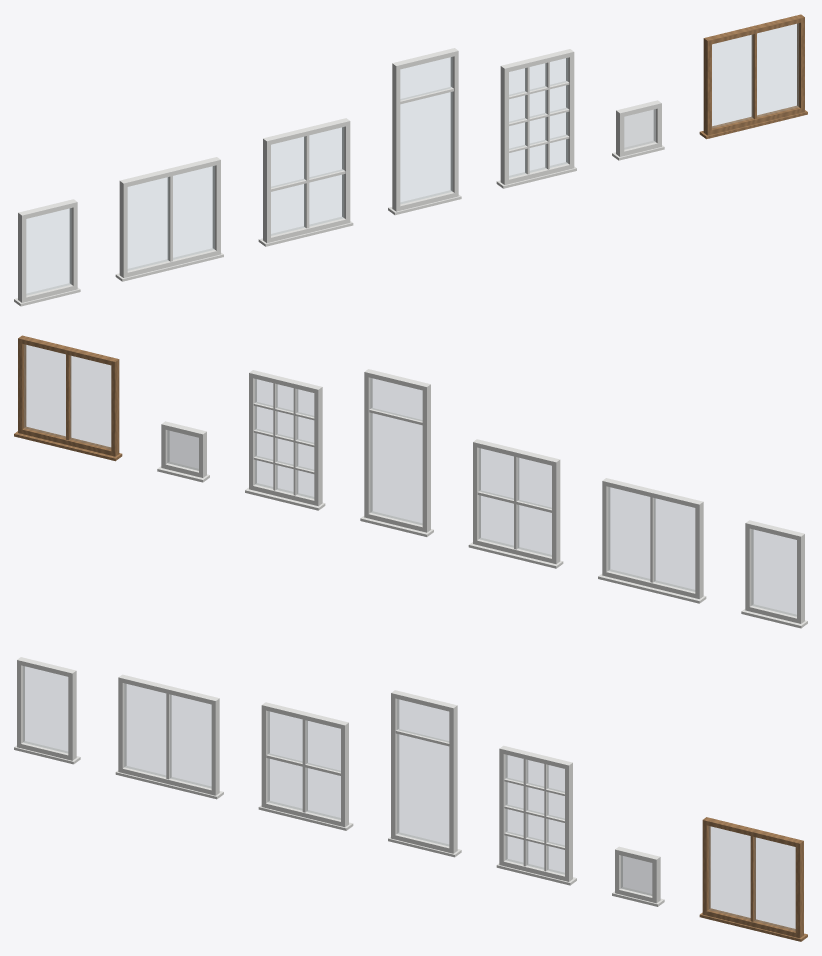
File: mlo_windows_basic.glb
3 renders of one model, top to bottom at view 1: azimuth 30°, elevation 25°; view 2: azimuth 150°, elevation 25°; view 3: azimuth 330°, elevation 25°, orthographic.
Parts seen in each view (by area): view 1: Casement_Double, Casement_Double_Oak, Tall_With_Transom, Cross_Four_Pane, Sash_Six_Over_Six, Casement_Single, Small_Frosted; view 2: Casement_Double, Casement_Double_Oak, Tall_With_Transom, Cross_Four_Pane, Sash_Six_Over_Six, Casement_Single, Small_Frosted; view 3: Casement_Double, Casement_Double_Oak, Tall_With_Transom, Cross_Four_Pane, Sash_Six_Over_Six, Casement_Single, Small_Frosted.
Part boxes in pixels (x1,y1,x2,y2): Casement_Double: (115, 157, 223, 281); Casement_Double_Oak: (699, 14, 807, 139); Tall_With_Transom: (388, 48, 461, 215); Cross_Four_Pane: (258, 118, 353, 246); Sash_Six_Over_Six: (496, 49, 576, 188); Casement_Single: (14, 199, 80, 306); Small_Frosted: (612, 100, 664, 160); Casement_Double: (598, 478, 706, 603); Casement_Double_Oak: (14, 335, 122, 461); Tall_With_Transom: (360, 369, 433, 536); Cross_Four_Pane: (468, 439, 563, 568); Sash_Six_Over_Six: (245, 370, 325, 510); Casement_Single: (741, 520, 807, 628); Small_Frosted: (157, 421, 209, 482); Casement_Double: (115, 674, 223, 799); Casement_Double_Oak: (699, 817, 807, 941); Tall_With_Transom: (388, 690, 461, 857); Cross_Four_Pane: (258, 702, 353, 830); Sash_Six_Over_Six: (496, 745, 576, 885); Casement_Single: (14, 657, 80, 764); Small_Frosted: (612, 846, 664, 906).
Size of the model in its own units: 11.32 by 2.04 by 0.17.
4 materials, 1 textured.
